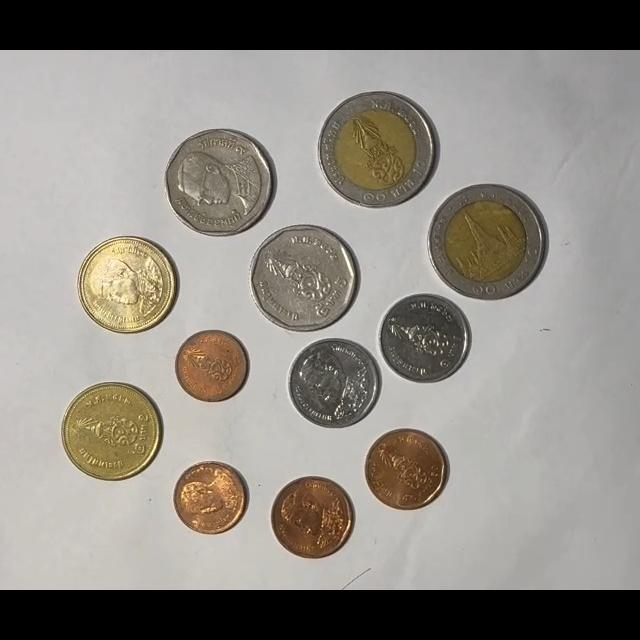1-baht: (378, 293, 471, 385), (287, 337, 380, 429)
10-baht: (318, 91, 438, 210), (428, 184, 547, 301)
2-baht: (77, 236, 177, 335), (62, 382, 162, 481)
25-satang: (173, 461, 249, 537), (175, 330, 249, 402)
5-baht: (164, 128, 276, 238), (249, 224, 359, 333)
50-satang: (270, 476, 354, 559), (365, 429, 448, 511)
